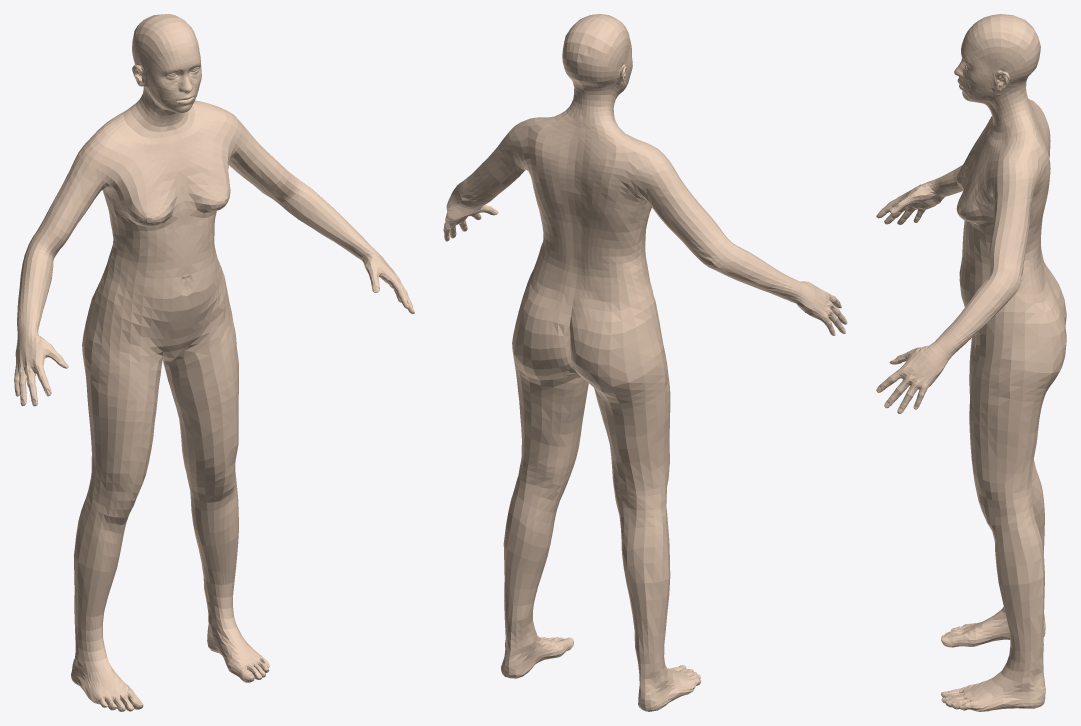
Rendered from female-mature-heavy-medium.glb.
3 views of the same model, side by side, from view 1: azimuth 30°, elevation 25°; view 2: azimuth 150°, elevation 25°; view 3: azimuth 270°, elevation 25° (orthographic).
Parts seen in each view (by area): view 1: world; view 2: world; view 3: world.
Boxes of the visible parts, x1,y1,x2,y2 form: world: (14,14,414,711); world: (443,14,847,711); world: (876,14,1066,711).
Bounding box in the file's own units: 1.13 × 1.81 × 0.476.
